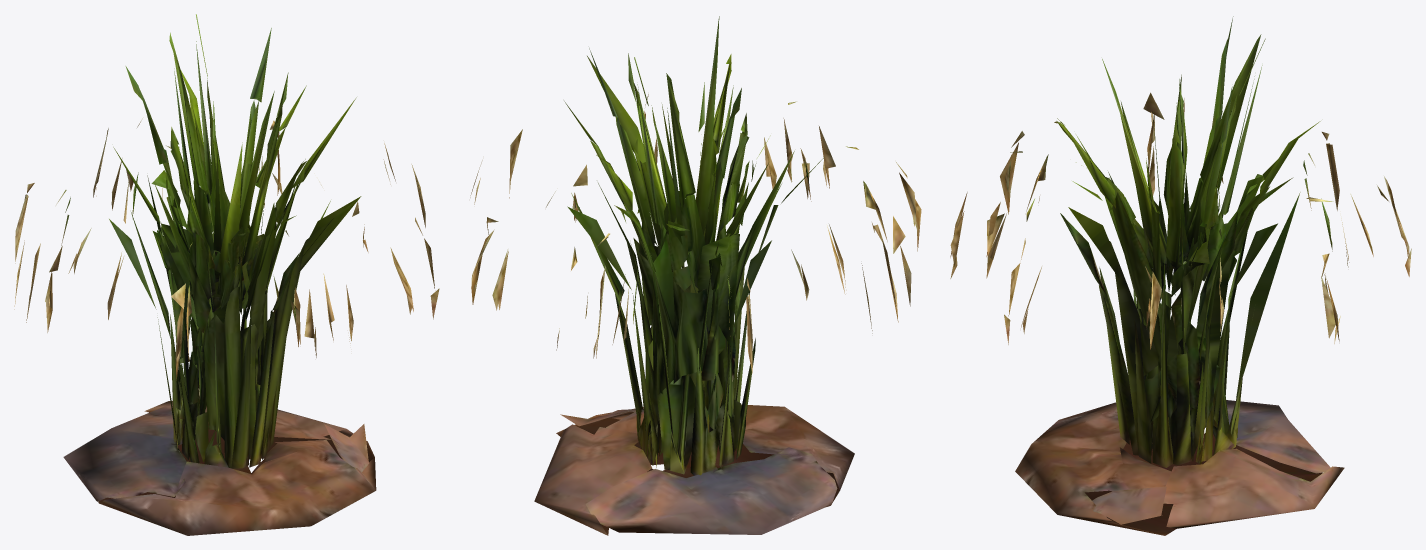
The model's file is rice.glb.
3 renders of one model, left to right at view 1: azimuth 30°, elevation 25°; view 2: azimuth 150°, elevation 25°; view 3: azimuth 270°, elevation 25°, orthographic. The views are drawn at different scales.
Parts seen in each view (by area): view 1: model; view 2: model; view 3: model.
Part boxes in pixels (bbox=[...]): model: bbox=[14, 14, 439, 535]; model: bbox=[470, 16, 921, 535]; model: bbox=[950, 16, 1411, 535].
Bounding box in the file's own units: 0.9491 × 0.9947 × 0.9437.
1 material, 1 textured.
